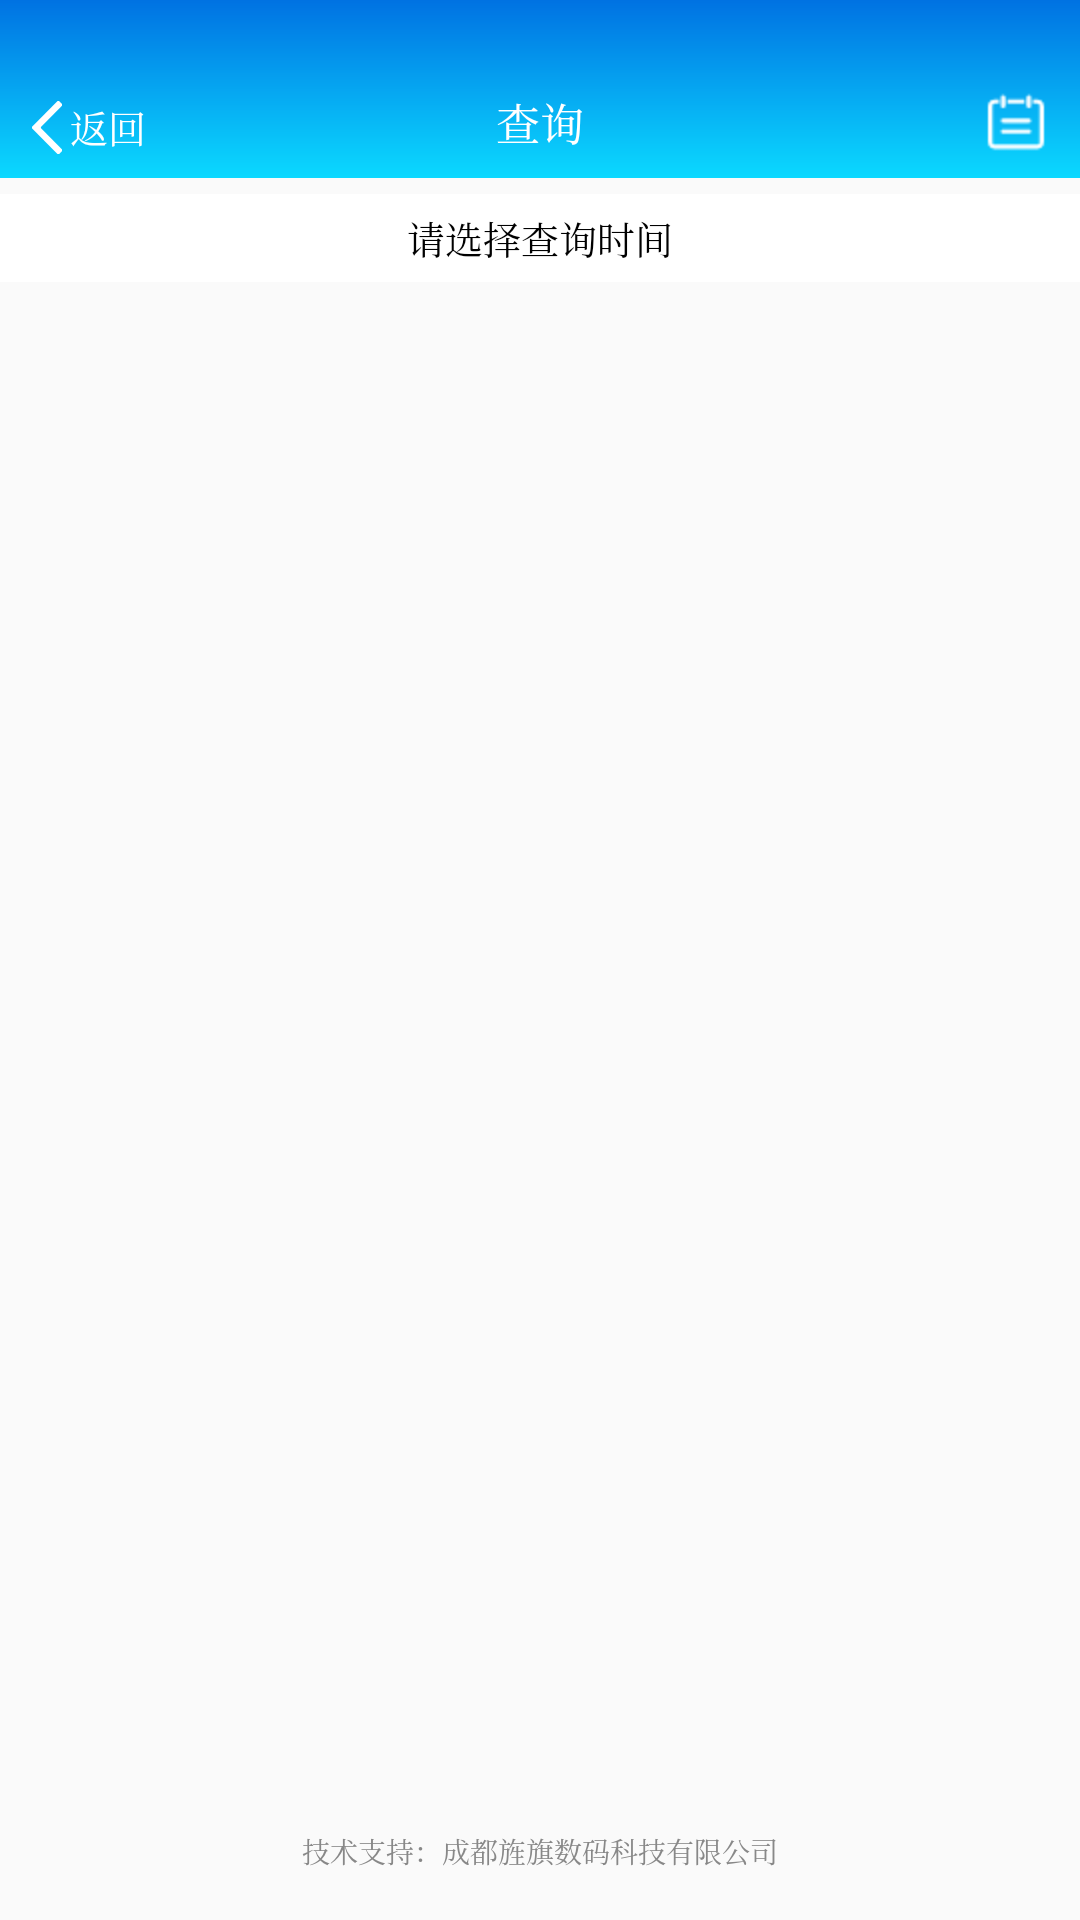

Where to tap for icons on this 1080 x 1920 app screen, as [x,y]:
date: [1016,122]
